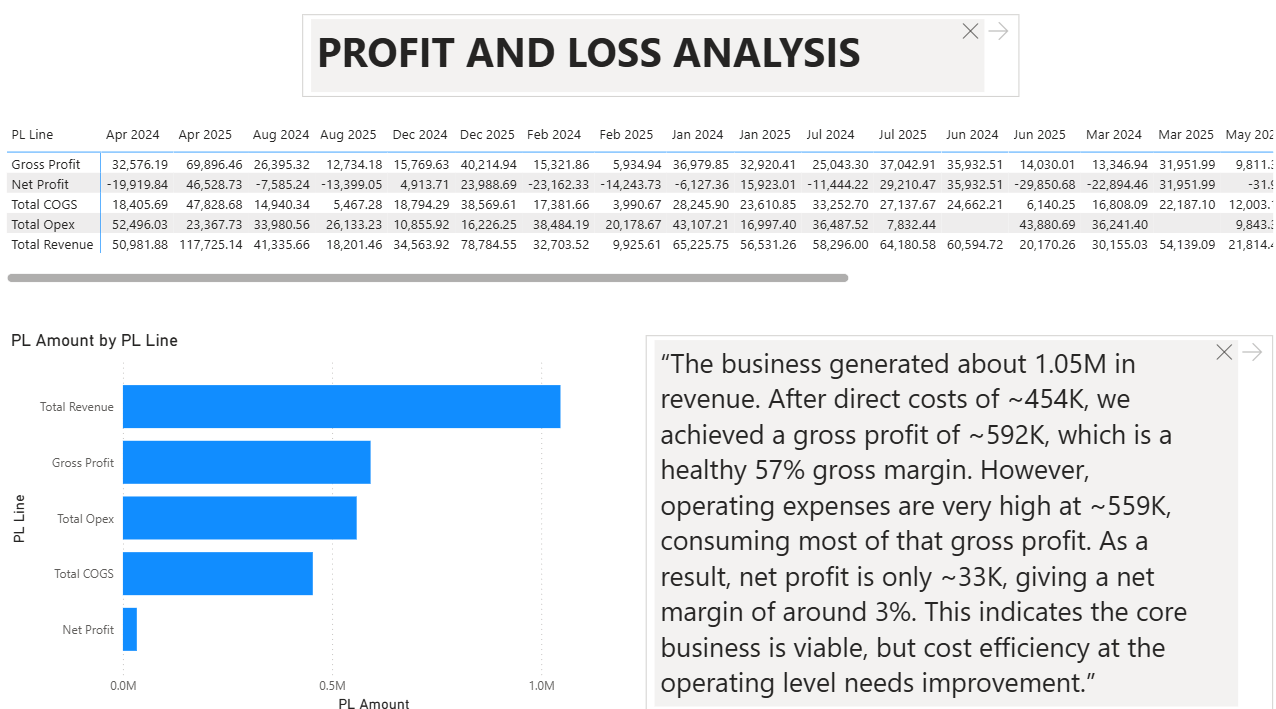

What the dashboard file says about the page in this screenshot:
{"tool":"powerbi","page":{"name":"P&L","canvas":[1280,720],"ordinal":1},"visuals":[{"type":"pivotTable","fields":{"Rows":["PL Layout.PL Line"],"Values":["PL Layout.PL Amount"],"Columns":["Calendar.MonthYear"]},"box":[4.5,124.2,1270.4,168.1],"z":0},{"type":"barChart","fields":{"Category":["PL Layout.PL Line"],"Y":["PL Layout.PL Amount"]},"box":[9.1,334.6,634.5,384.6],"z":1},{"type":"textSlicer","box":[640.5,334.6,634.5,384.6],"z":2},{"type":"textSlicer","box":[298.3,15.1,723.8,92.4],"z":3}]}

Visuals, with their boxes in screenshot pixels (x1, y1, x2, y2), scaled from the page's 1280x720 canvas onto the 1276x709 screenshot:
pivotTable - PL Layout.PL Line x PL Layout.PL Amount: rect(4, 122, 1271, 288)
barChart - PL Layout.PL Line x PL Layout.PL Amount: rect(9, 329, 642, 708)
textSlicer: rect(638, 329, 1271, 708)
textSlicer: rect(297, 15, 1019, 106)
